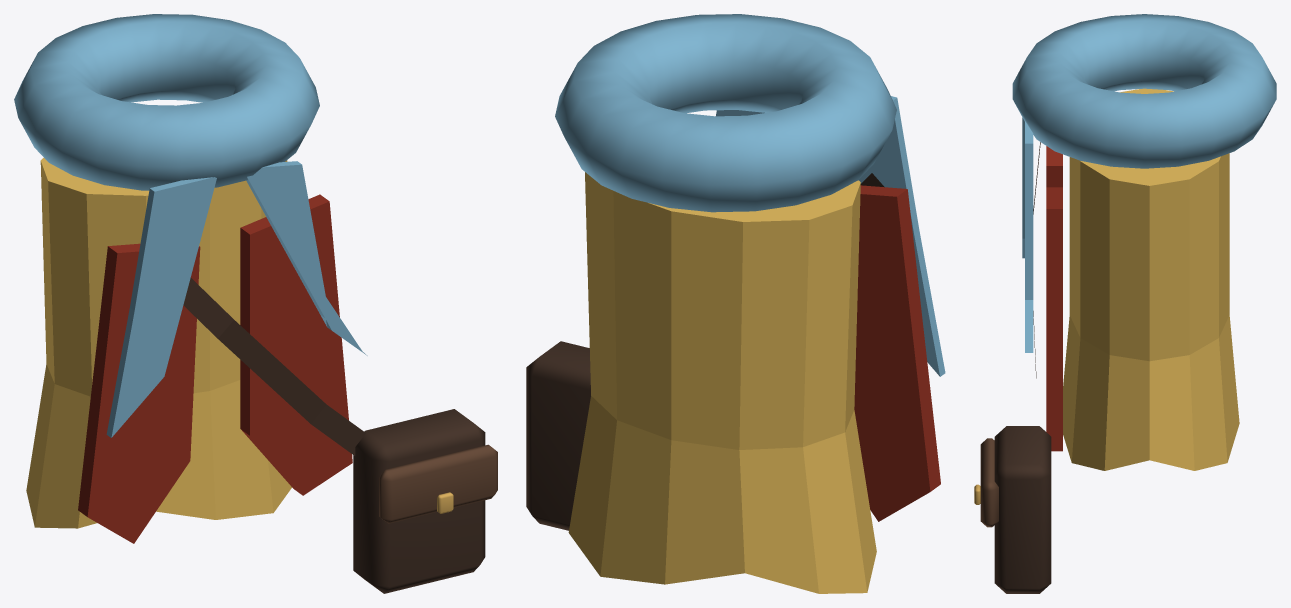
File: torso.obj
The picture shows the model from 3 angles, left to right: view 1: azimuth 30°, elevation 25°; view 2: azimuth 150°, elevation 25°; view 3: azimuth 270°, elevation 25°; orthographic projection. The views are drawn at different scales.
Visible parts, largest first — view 1: Scarf_rounded_collar, Tunic_tapered_ragged_shirt, Vest_right, Vest_left, Satchel_small_leather_bag, Scarf_loose_left_tail, Satchel_front_flap, Scarf_loose_right_tail, Satchel_strap_diagonal; view 2: Tunic_tapered_ragged_shirt, Scarf_rounded_collar, Vest_left, Satchel_small_leather_bag, Scarf_loose_left_tail; view 3: Tunic_tapered_ragged_shirt, Scarf_rounded_collar, Satchel_small_leather_bag, Vest_right, Scarf_loose_right_tail, Satchel_front_flap, Vest_left, Scarf_loose_left_tail.
Part boxes in pixels (box(x1,y1,x2,y2)): Scarf_rounded_collar: box(14, 14, 319, 190); Tunic_tapered_ragged_shirt: box(26, 158, 291, 528); Vest_right: box(240, 194, 352, 495); Vest_left: box(78, 243, 200, 543); Satchel_small_leather_bag: box(353, 409, 485, 593); Scarf_loose_left_tail: box(106, 177, 216, 437); Satchel_front_flap: box(379, 444, 497, 523); Scarf_loose_right_tail: box(246, 161, 367, 355); Satchel_strap_diagonal: box(183, 278, 365, 455); Tunic_tapered_ragged_shirt: box(568, 172, 876, 593); Scarf_rounded_collar: box(555, 14, 896, 212); Vest_left: box(854, 185, 940, 521); Satchel_small_leather_bag: box(526, 341, 590, 530); Scarf_loose_left_tail: box(858, 96, 945, 376); Tunic_tapered_ragged_shirt: box(1063, 88, 1239, 470); Scarf_rounded_collar: box(1012, 14, 1276, 168); Satchel_small_leather_bag: box(994, 426, 1051, 593); Vest_right: box(1046, 187, 1062, 451); Scarf_loose_right_tail: box(1025, 121, 1033, 352); Satchel_front_flap: box(980, 438, 998, 527); Vest_left: box(1046, 146, 1062, 187); Scarf_loose_left_tail: box(1022, 117, 1024, 258).
Bounding box in the file's own units: 1.14 × 1.46 × 0.9069.
